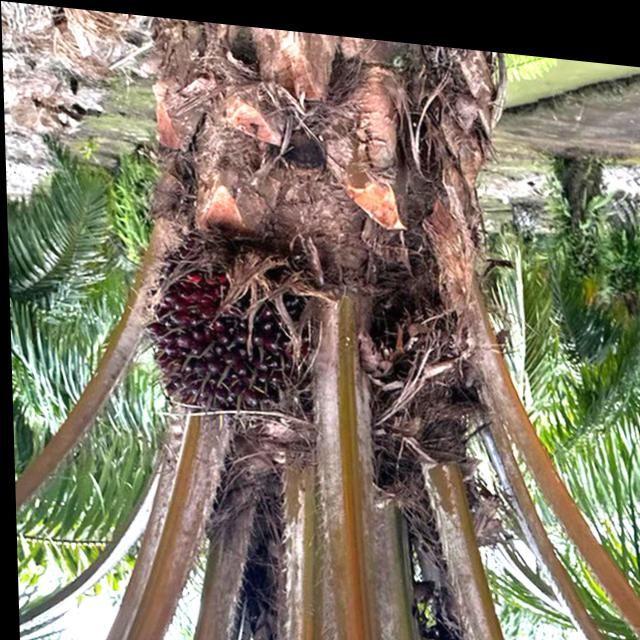ripe: (150, 249, 330, 420)
